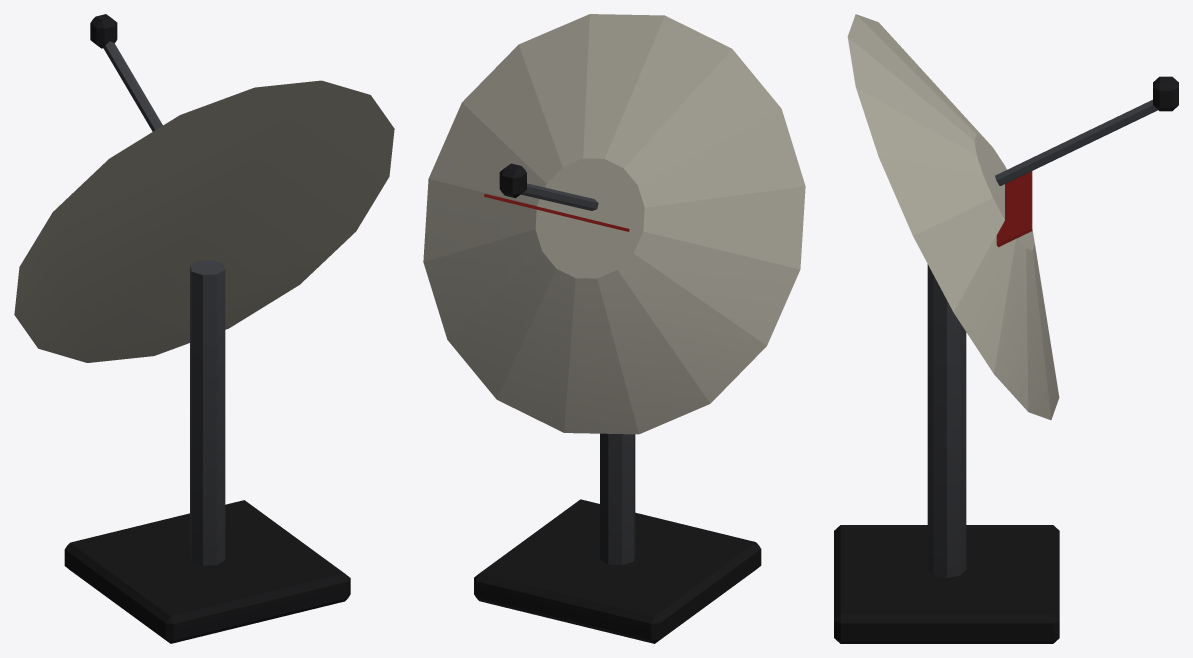
Rendered from satellite_dish.glb.
3 views of the same model, side by side, from view 1: azimuth 30°, elevation 25°; view 2: azimuth 150°, elevation 25°; view 3: azimuth 270°, elevation 25° (orthographic). The views are drawn at different scales.
Parts seen in each view (by area): view 1: satellite_dish; view 2: satellite_dish; view 3: satellite_dish.
Boxes of the visible parts, x1,y1,x2,y2 form: satellite_dish: (14,14,394,643); satellite_dish: (423,14,805,643); satellite_dish: (834,14,1178,643).
Size of the model in its own units: 1.4 by 1.93 by 1.07.
